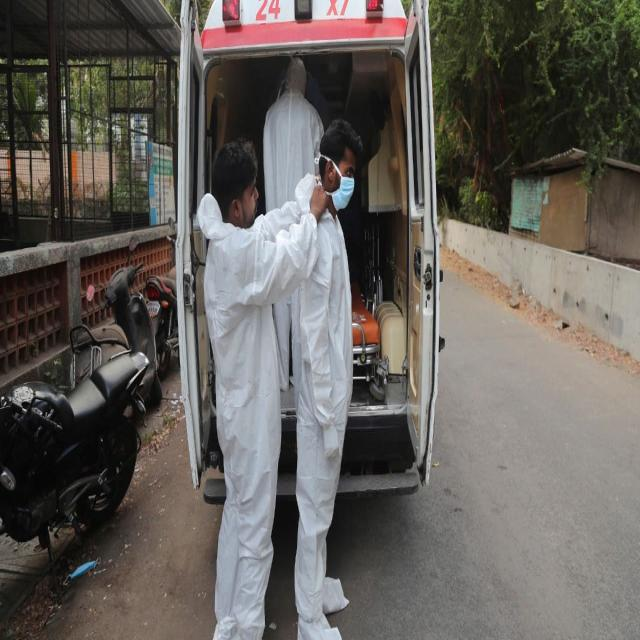emergency: (176, 0, 440, 494)
